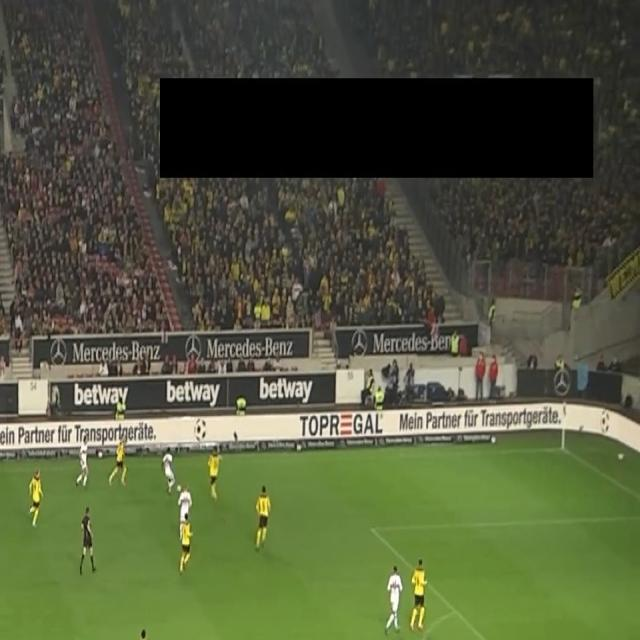ball: (176, 483, 182, 494)
